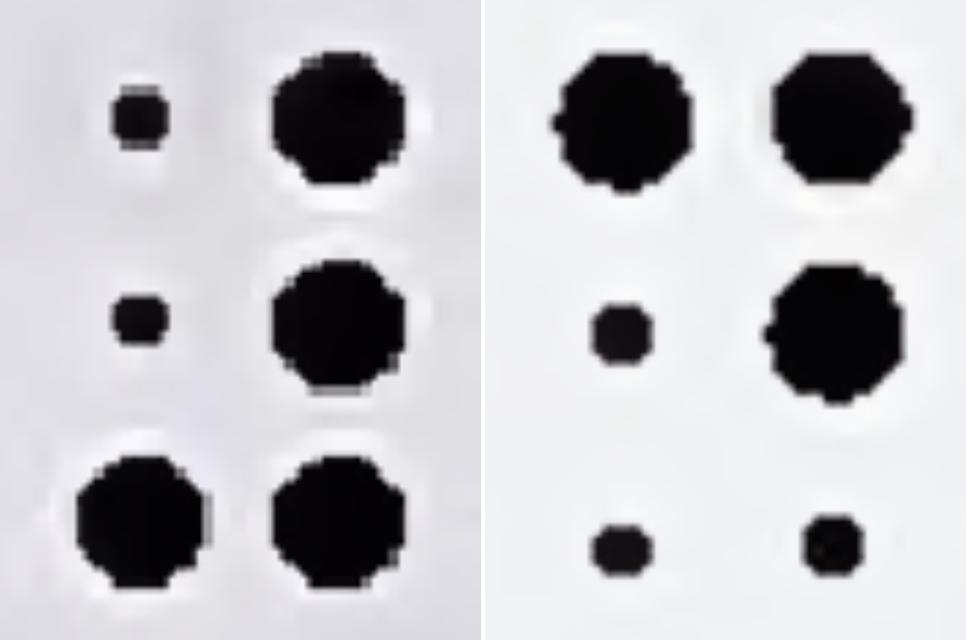digit_4: (557, 54, 911, 582)
number_sign: (77, 50, 407, 592)
